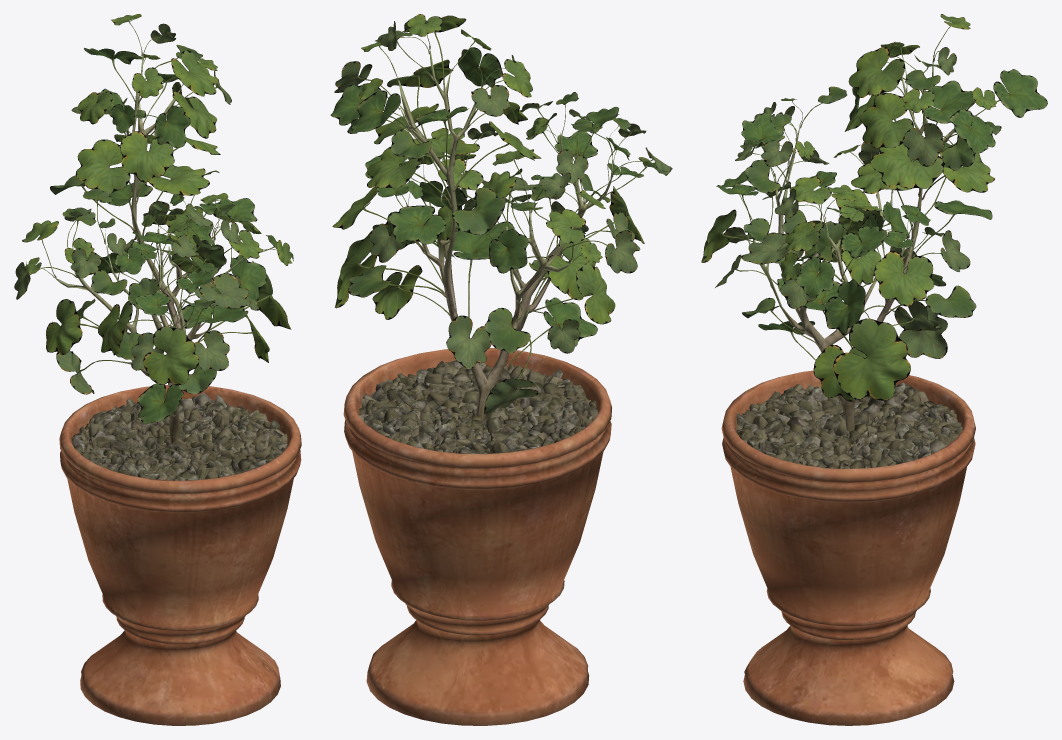
Rendered from potted_plant_01.glb.
3 views of the same model, side by side, from view 1: azimuth 30°, elevation 25°; view 2: azimuth 150°, elevation 25°; view 3: azimuth 270°, elevation 25° (orthographic). The views are drawn at different scales.
Parts seen in each view (by area): view 1: potted_plant_01_stem, potted_plant_01_leaves; view 2: potted_plant_01_stem, potted_plant_01_leaves; view 3: potted_plant_01_stem, potted_plant_01_leaves.
Boxes of the visible parts, x1,y1,x2,y2 form: potted_plant_01_stem: (54,54,301,725); potted_plant_01_leaves: (14,14,293,424); potted_plant_01_stem: (343,48,612,725); potted_plant_01_leaves: (330,14,672,414); potted_plant_01_stem: (721,55,975,725); potted_plant_01_leaves: (701,14,1047,401).
Bounding box in the file's own units: 0.5874 × 1.34 × 0.6336.
Materials: 2 (2 with a texture image).
